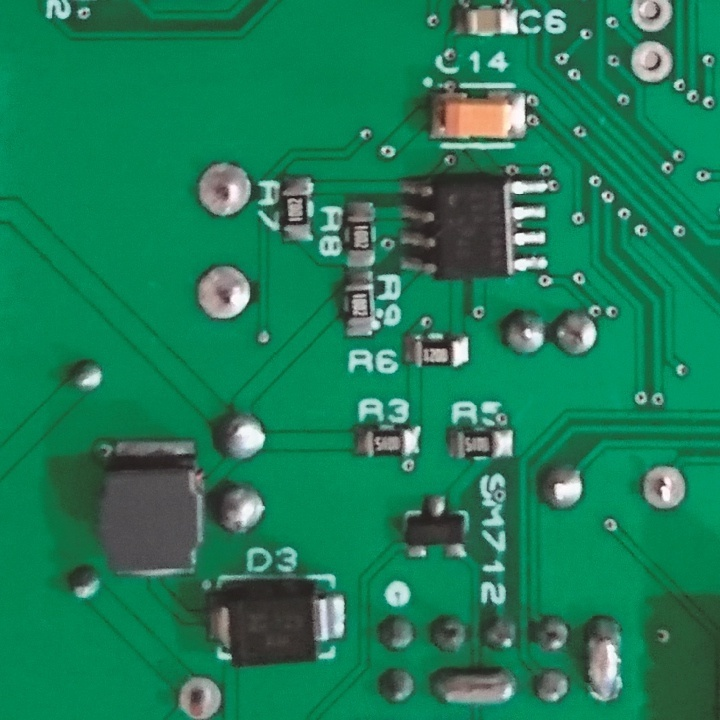F: (195, 260, 254, 323), (194, 159, 254, 218), (638, 464, 690, 516), (174, 673, 227, 720), (627, 39, 674, 86), (627, 1, 673, 36)
P: (582, 614, 627, 709), (430, 666, 519, 707)
